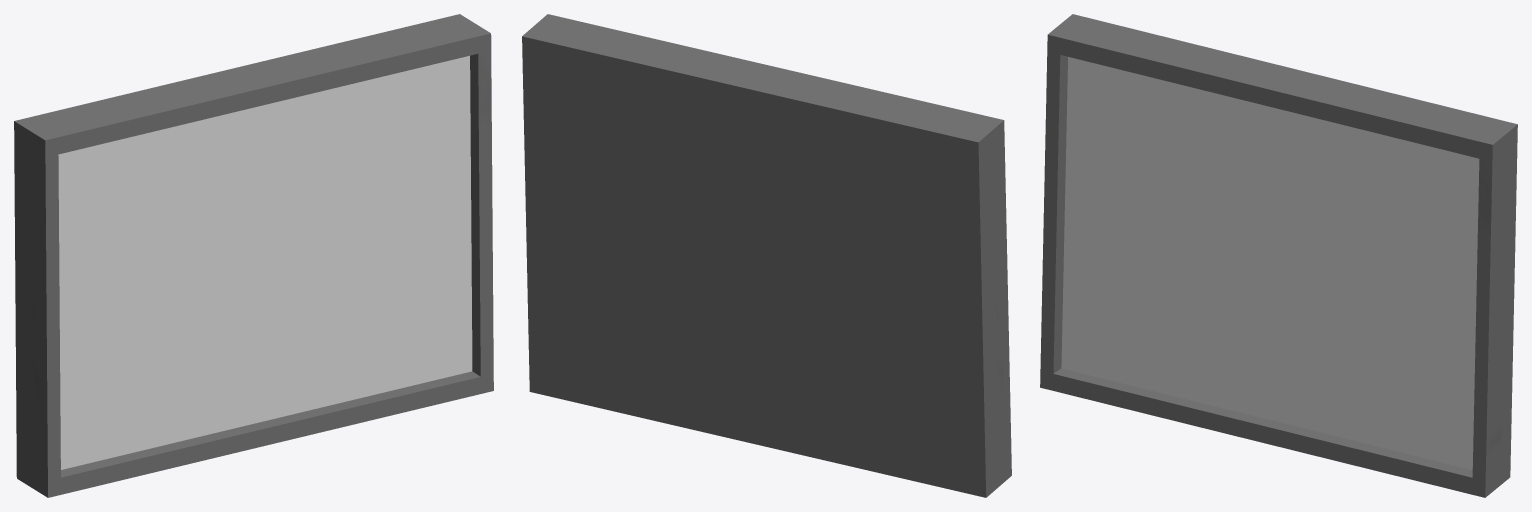
The model's file is picFrame00.fbx.
3 views of the same model, side by side, from view 1: azimuth 30°, elevation 25°; view 2: azimuth 150°, elevation 25°; view 3: azimuth 330°, elevation 25° (orthographic). The views are drawn at different scales.
Visible parts, largest first — view 1: picFrame00.001; view 2: picFrame00.001; view 3: picFrame00.001.
Boxes of the visible parts, left/top/right/bottom form: picFrame00.001: left=14, top=14, right=493, bottom=497; picFrame00.001: left=522, top=14, right=1011, bottom=497; picFrame00.001: left=1040, top=14, right=1517, bottom=497.
Size of the model in its own units: 1.34 by 1.01 by 0.1803.
